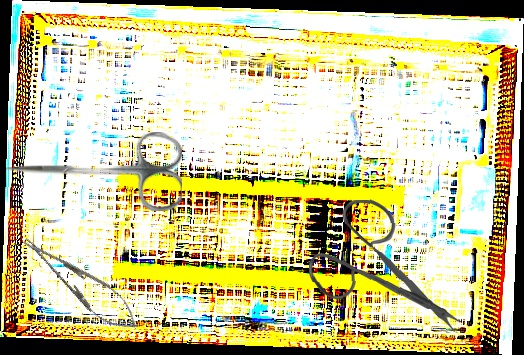Iris Scissors: (306, 196, 465, 337), (6, 132, 182, 211)
Needle Holder: (14, 226, 148, 341)
